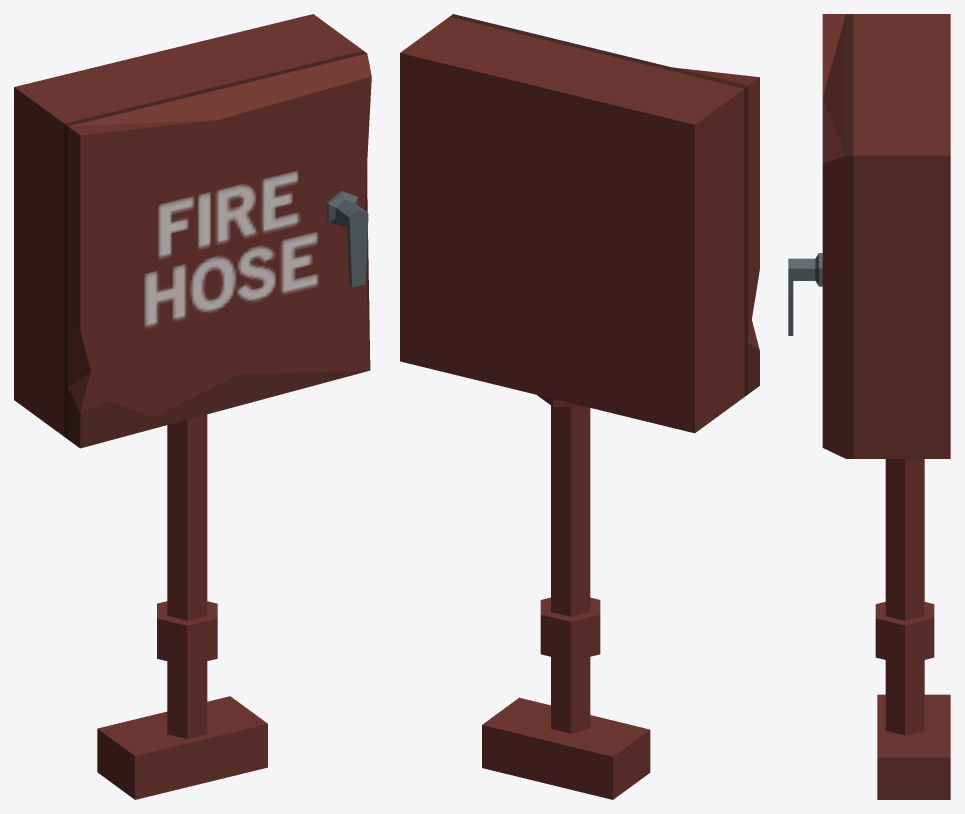
File: SM_Prop_Warehouse_Firehose_01.obj
3 views of the same model, side by side, from view 1: azimuth 30°, elevation 25°; view 2: azimuth 150°, elevation 25°; view 3: azimuth 270°, elevation 25° (orthographic). The views are drawn at different scales.
Visible parts, largest first — view 1: SM_Prop_Warehouse_Firehose_01_0; view 2: SM_Prop_Warehouse_Firehose_01_0; view 3: SM_Prop_Warehouse_Firehose_01_0.
Boxes of the visible parts, box(x1,y1,x2,y2) form: SM_Prop_Warehouse_Firehose_01_0: box(14, 14, 371, 799); SM_Prop_Warehouse_Firehose_01_0: box(400, 14, 759, 799); SM_Prop_Warehouse_Firehose_01_0: box(788, 14, 950, 799).
Size of the model in its own units: 0.8216 by 1.85 by 0.3983.
Materials: 1 (1 with a texture image).
